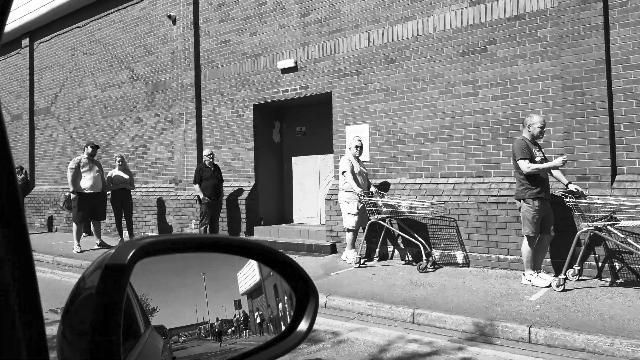berdiri: (506, 113, 582, 291), (332, 132, 384, 268), (192, 144, 230, 234)
